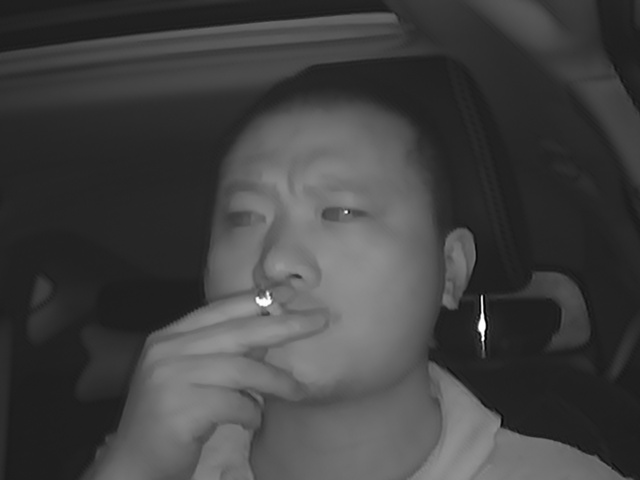hand: (152, 279, 325, 434)
